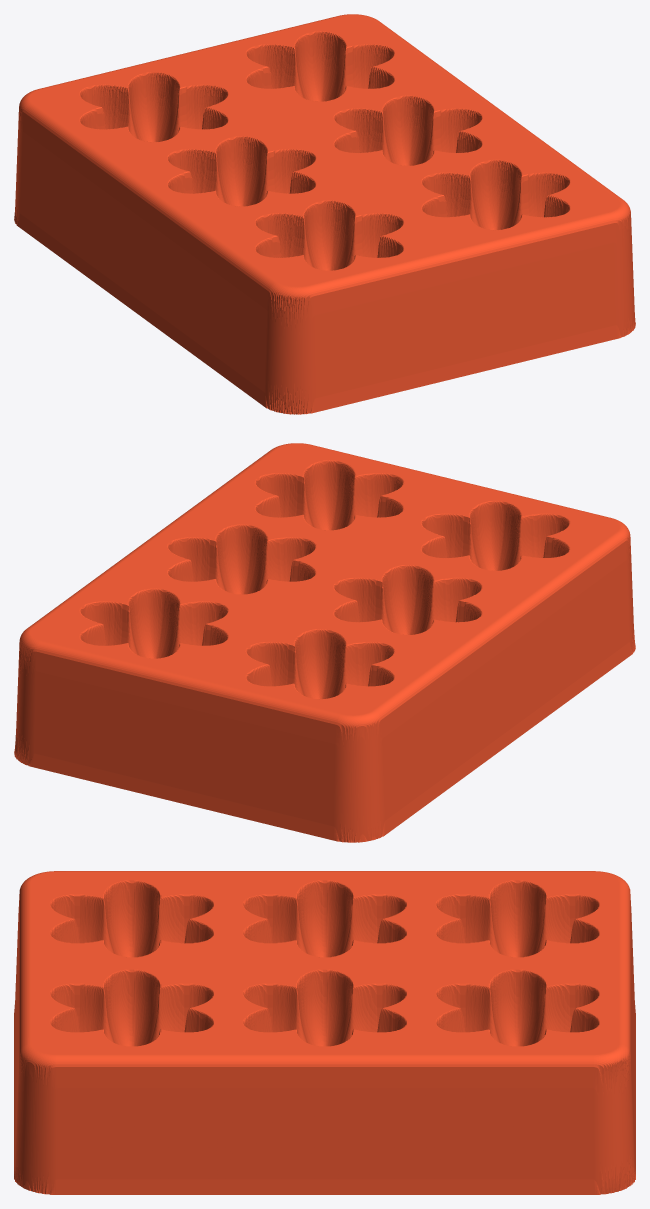
Rendered from mold.glb.
3 renders of one model, top to bottom at view 1: azimuth 30°, elevation 25°; view 2: azimuth 150°, elevation 25°; view 3: azimuth 270°, elevation 25°, orthographic. The views are drawn at different scales.
Parts seen in each view (by area): view 1: geometry_0; view 2: geometry_0; view 3: geometry_0.
Part boxes in pixels (x1,y1,x2,y2): geometry_0: (14, 14, 635, 414); geometry_0: (14, 443, 635, 842); geometry_0: (14, 871, 635, 1194).
Bounding box in the file's own units: 0.0996 × 0.0314 × 0.133.
